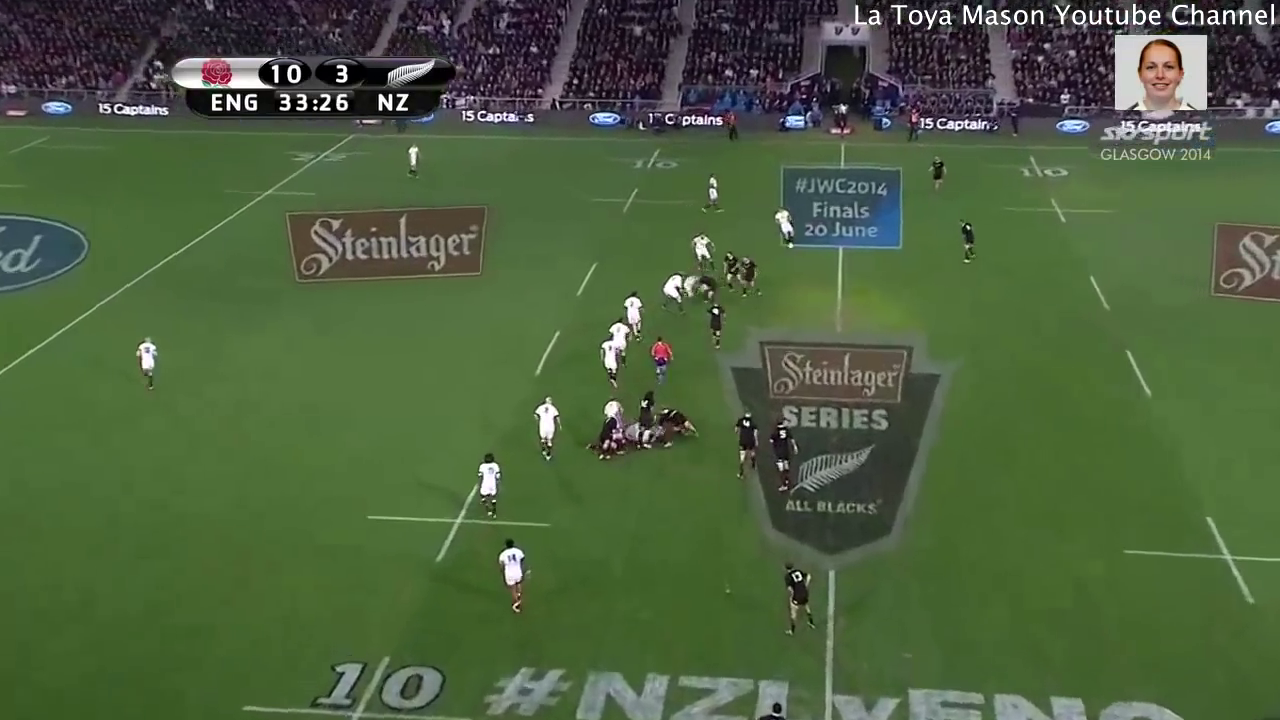10_metre: (359, 479, 556, 571), (1114, 508, 1280, 611), (236, 650, 462, 720), (997, 188, 1128, 228), (977, 151, 1097, 184), (583, 186, 695, 216), (597, 144, 699, 175)
player: (778, 557, 825, 644), (522, 392, 569, 472), (494, 531, 534, 619), (765, 410, 802, 503), (727, 404, 768, 485), (467, 444, 505, 527), (629, 381, 667, 456), (131, 327, 168, 402), (655, 403, 708, 442), (595, 335, 627, 394), (701, 297, 733, 354), (644, 330, 677, 385), (738, 247, 770, 302), (687, 230, 724, 276), (605, 314, 636, 368), (620, 289, 649, 346), (768, 203, 801, 253), (591, 412, 623, 463), (696, 168, 728, 218), (955, 217, 982, 270), (657, 266, 688, 308), (720, 242, 745, 292), (400, 137, 429, 180), (924, 154, 949, 199), (598, 395, 623, 426), (699, 274, 724, 302)
